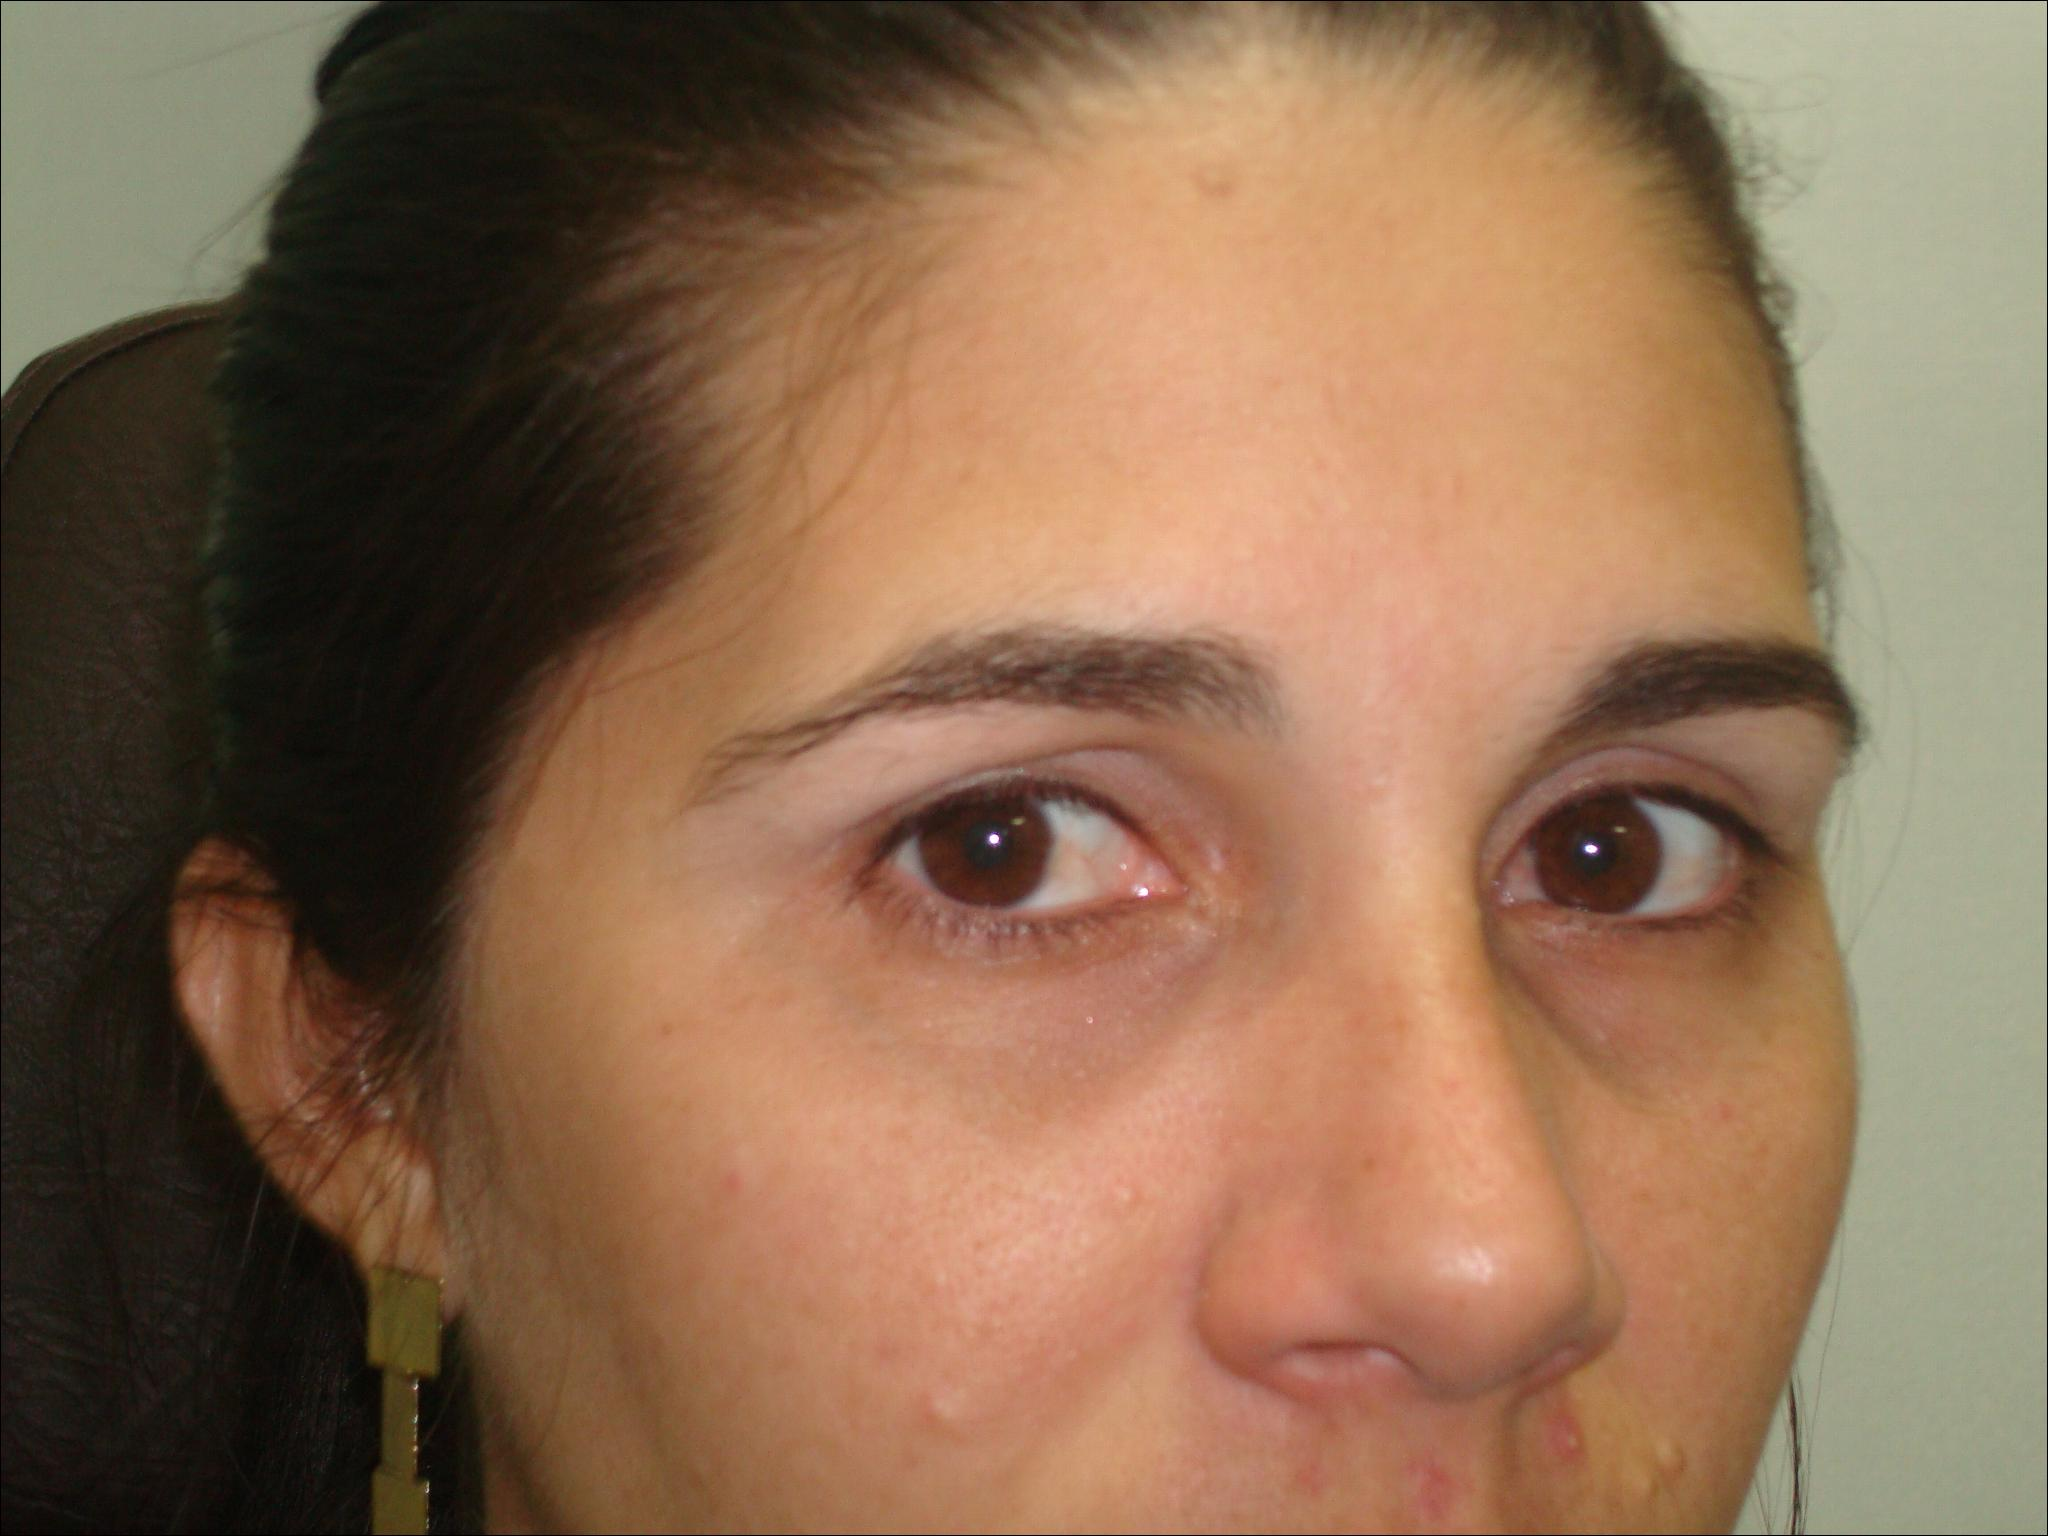flash: (1580, 837, 1605, 860), (984, 828, 1005, 850)
limbo: (1534, 787, 1656, 916), (921, 786, 1053, 904)
